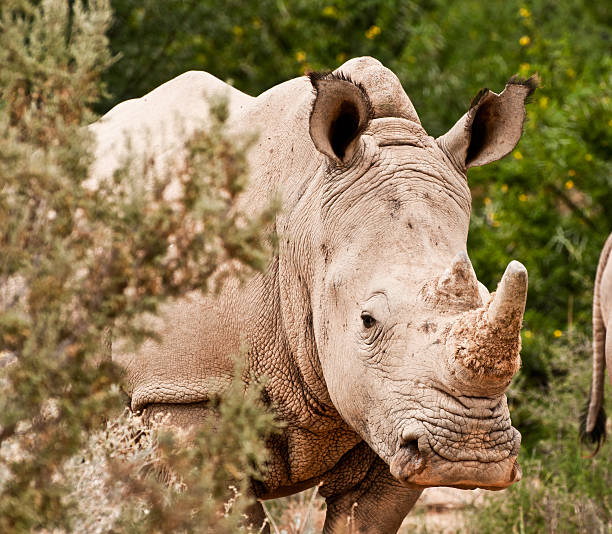rhino: (281, 32, 580, 514)
